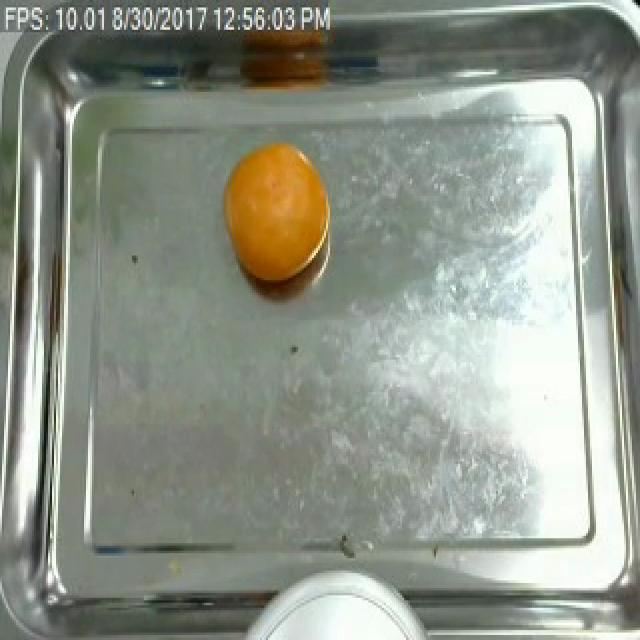Fruit: (218, 134, 336, 288)
